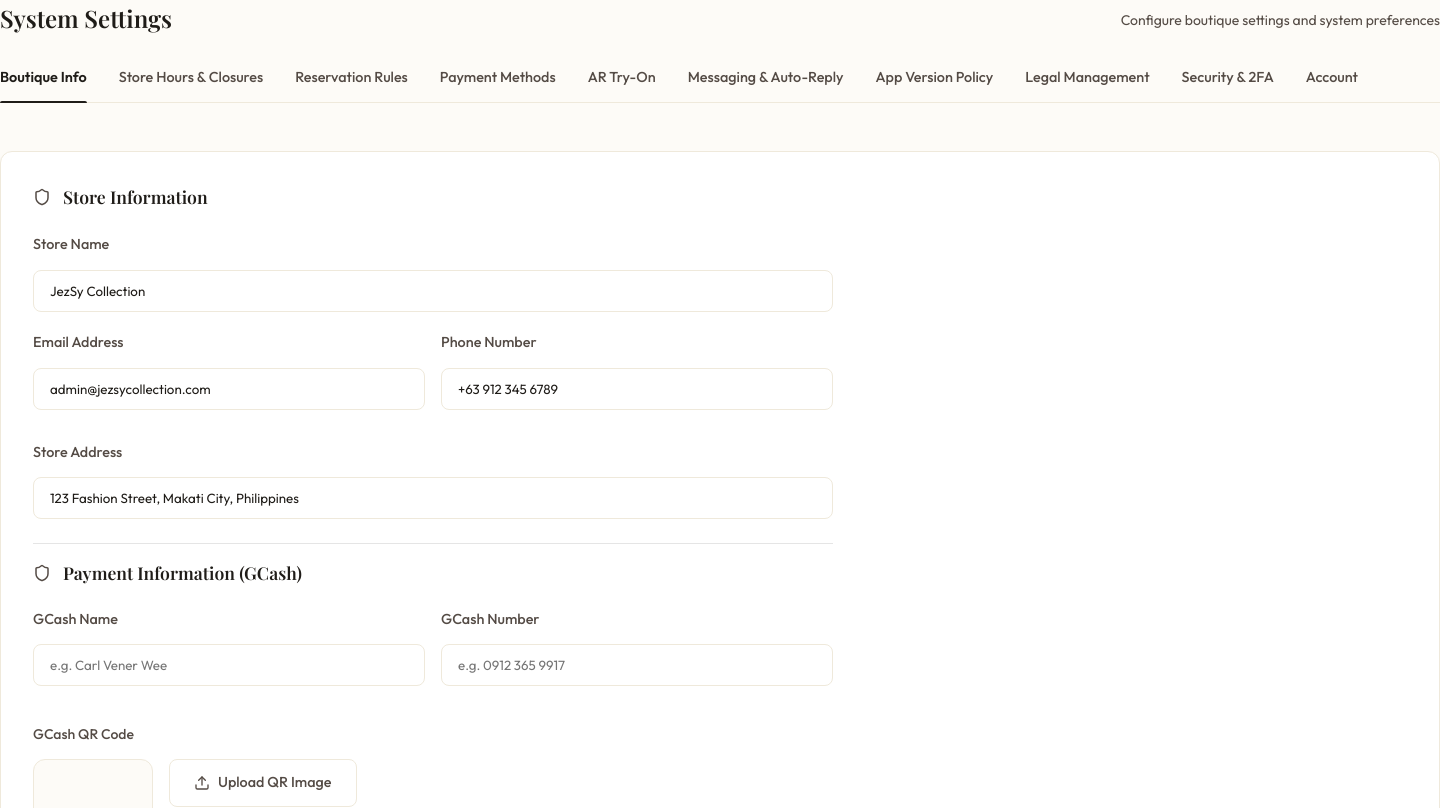
Test: Settings Closures Confirmation Dialog › clicking Remove closure opens ConfirmDialog with consequence warning and does not delete immediately
Note: Switch to Store Hours tab
Click the button "Store Hours & Closures" at [191, 85], box [119,68,263,102]
(page scrolled)
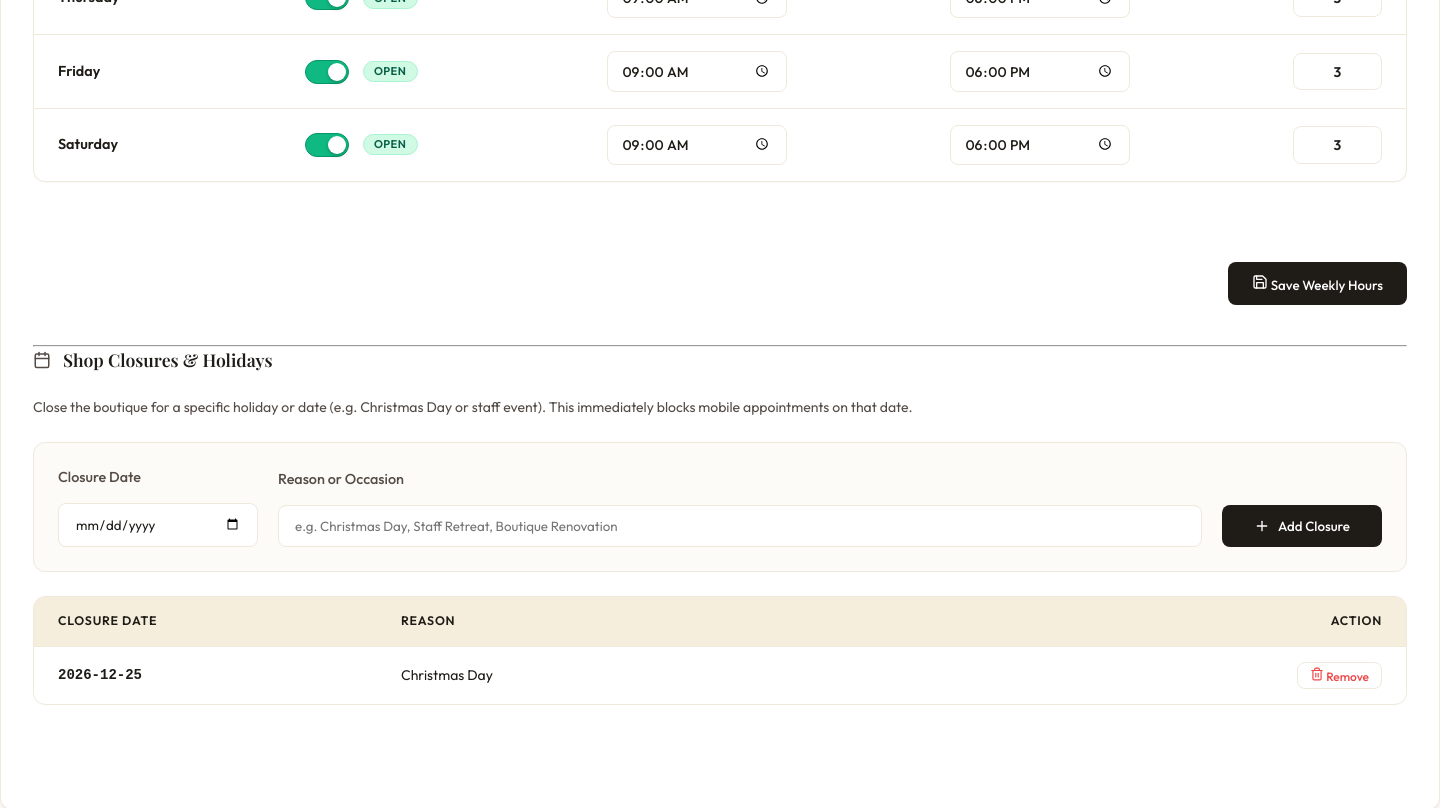
Expected: the text "2026-12-25" is shown, [34,647,377,704]
Expected: the text "Christmas Day" is shown, [377,647,1132,704]
Note: Click Remove button
Click the button "Remove" at [1339, 676], box [1297,662,1382,689]
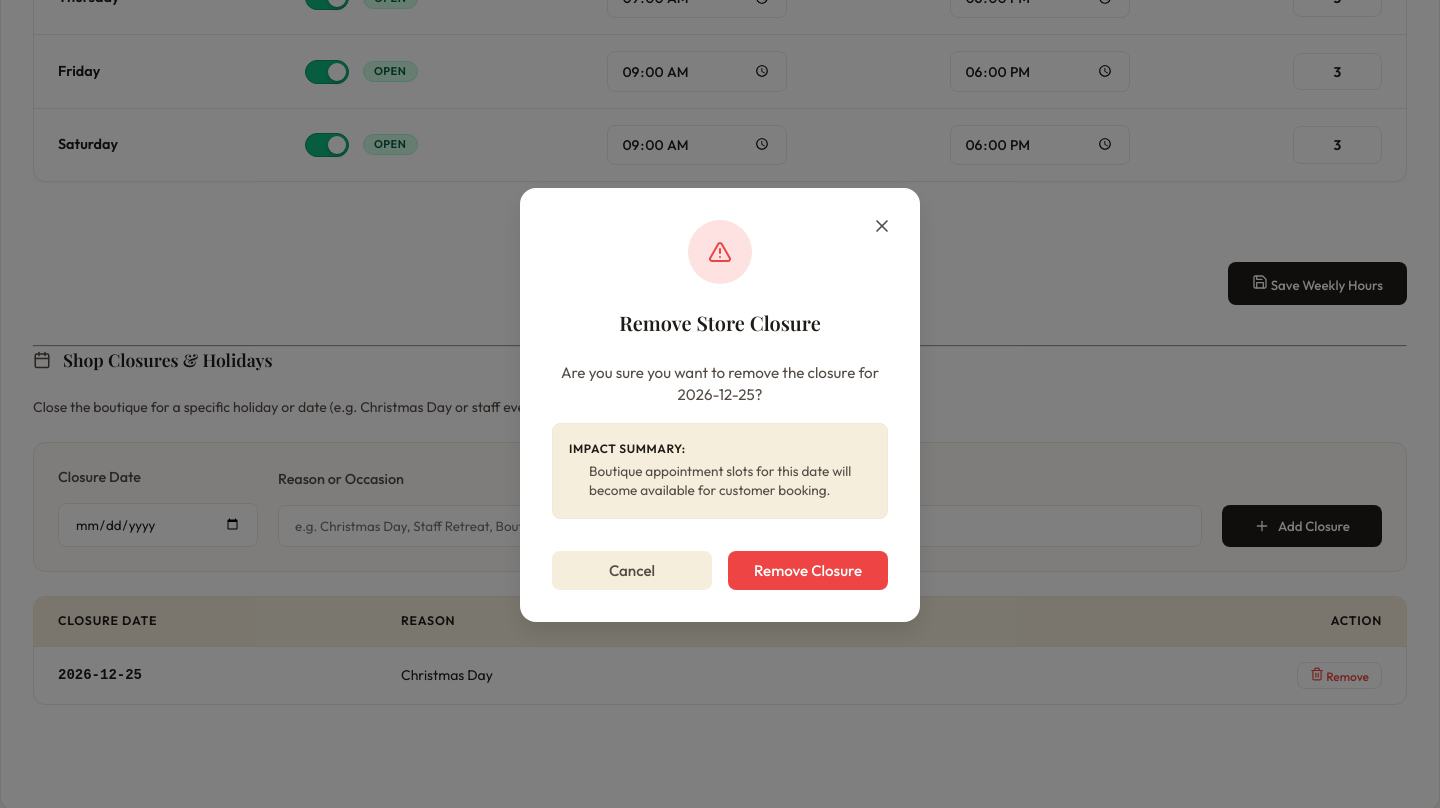
Expected: the dialog is shown, [520,188,920,622]
Expected: the heading "Remove Store Closure" is shown, [619,308,821,338]
Expected: the list item "Boutique appointment slots for this date will become available for customer booking." is shown, [589,462,851,499]
Note: Cancel dismissal
Click the button "Cancel" at [632, 571], box [552,551,712,590]
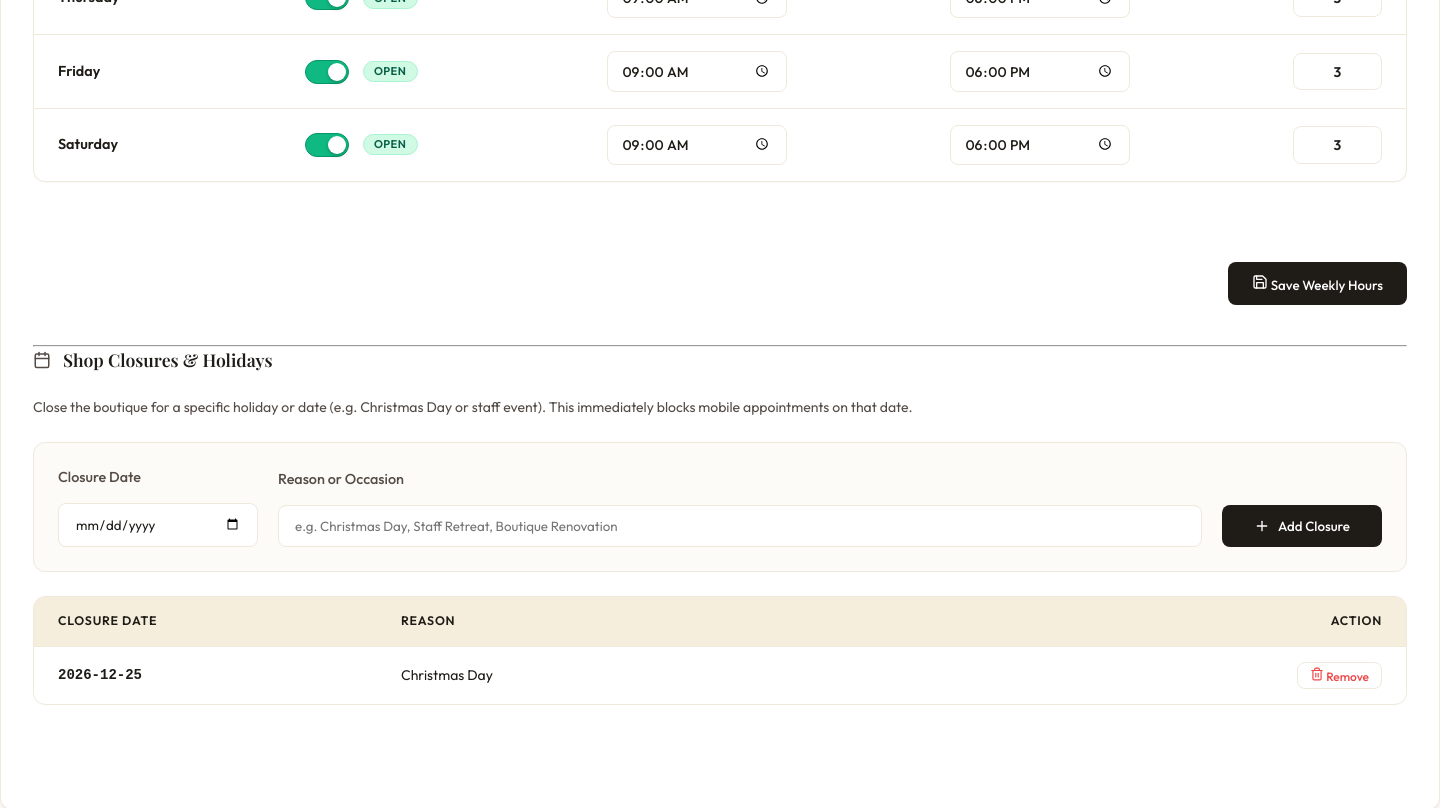
Expected: the dialog is gone
